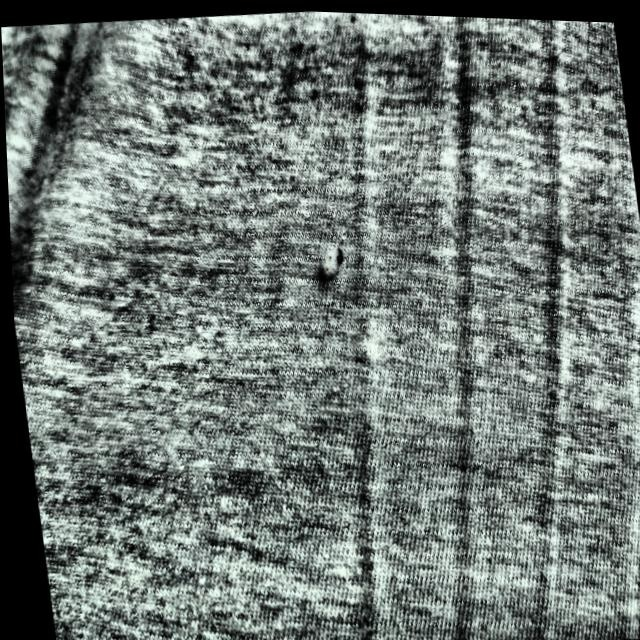Hole: (306, 228, 359, 309)
